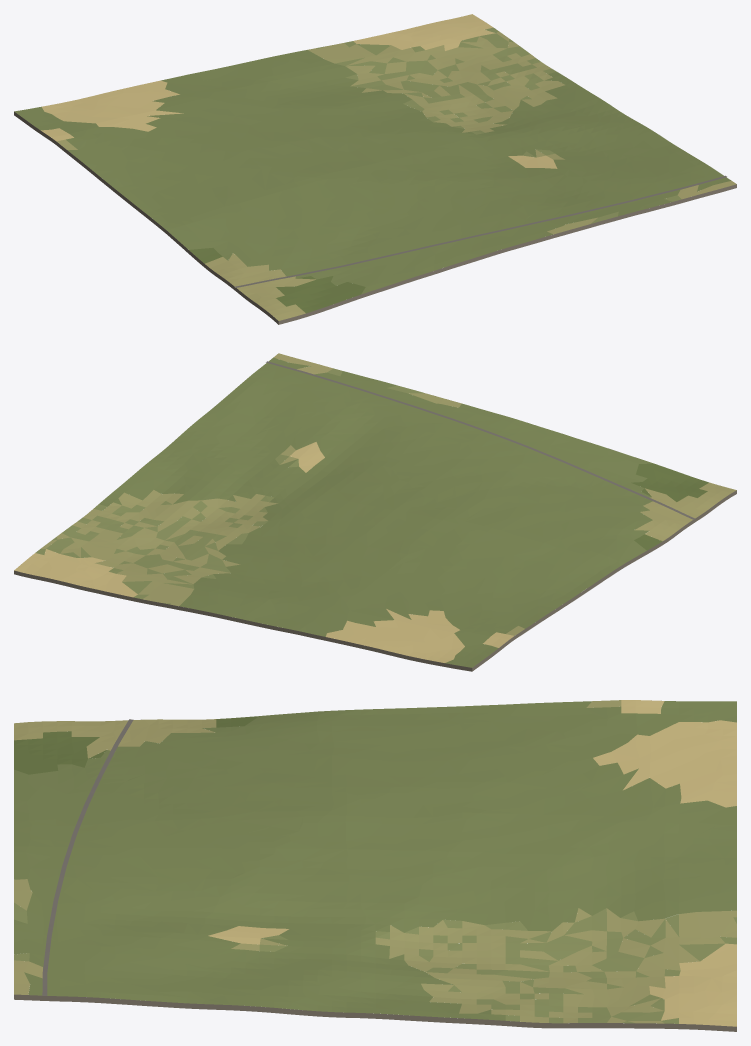
The model's file is parca_+4_-2-uzak.glb.
3 views of the same model, one above another, from view 1: azimuth 30°, elevation 25°; view 2: azimuth 150°, elevation 25°; view 3: azimuth 270°, elevation 25° (orthographic). The views are drawn at different scales.
Parts seen in each view (by area): view 1: parca_+4_-2_arazi_uzak, parca_+4_-2_yollar_uzak; view 2: parca_+4_-2_arazi_uzak, parca_+4_-2_yollar_uzak; view 3: parca_+4_-2_arazi_uzak, parca_+4_-2_yollar_uzak.
Boxes of the visible parts, box(x1,y1,x2,y2) form: parca_+4_-2_arazi_uzak: box(14, 14, 736, 324); parca_+4_-2_yollar_uzak: box(234, 175, 726, 287); parca_+4_-2_arazi_uzak: box(14, 353, 736, 671); parca_+4_-2_yollar_uzak: box(266, 361, 695, 519); parca_+4_-2_arazi_uzak: box(14, 700, 736, 1031); parca_+4_-2_yollar_uzak: box(42, 719, 133, 995).
Bounding box in the file's own units: 1004 × 60.31 × 1000.
